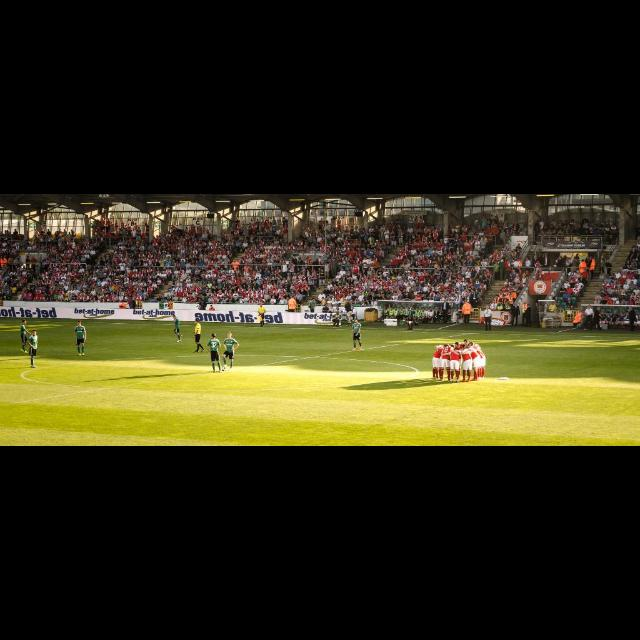Football: (222, 366, 224, 370)
